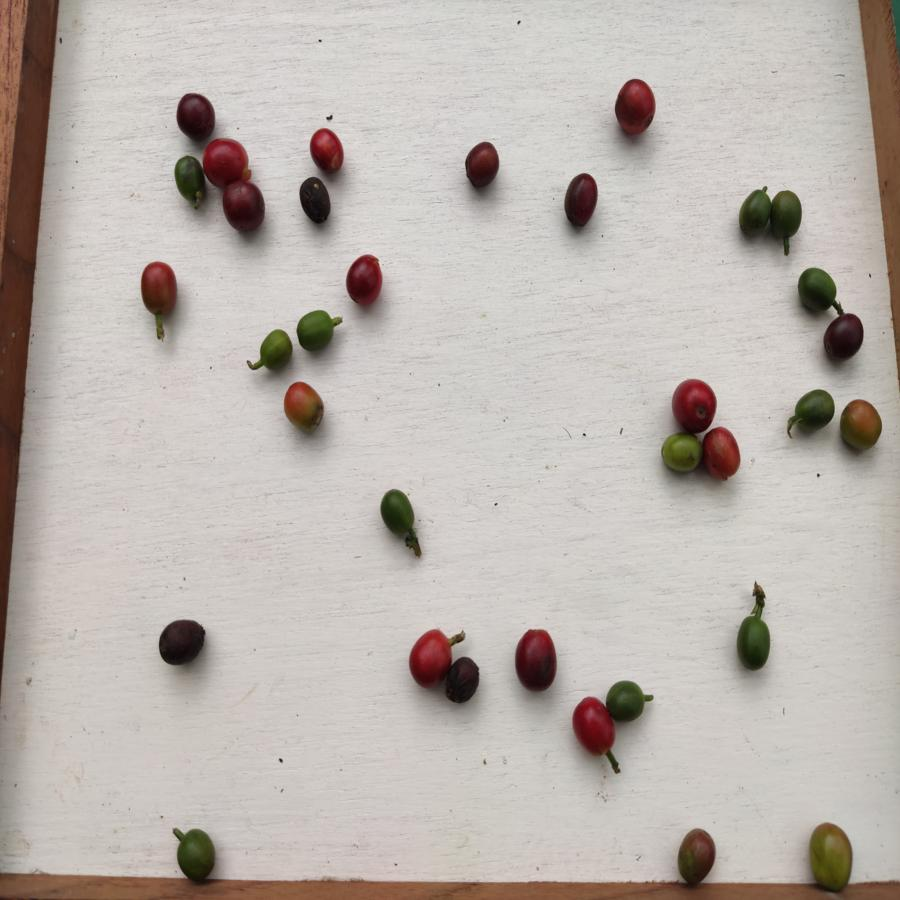Inmaduro: (731, 613, 772, 671), (173, 830, 218, 881), (791, 387, 836, 436), (797, 264, 840, 313), (769, 188, 803, 242), (737, 188, 771, 241), (605, 677, 645, 722), (381, 486, 417, 535), (295, 309, 335, 350), (257, 330, 295, 372), (173, 155, 206, 203)
Maduro: (407, 626, 451, 687), (671, 373, 716, 432), (570, 695, 614, 755), (701, 426, 745, 483), (140, 259, 181, 316), (204, 138, 251, 183), (309, 127, 344, 175)
Pinton: (805, 815, 857, 893), (840, 395, 884, 459), (672, 829, 719, 886), (281, 378, 326, 430), (660, 430, 703, 475)
Sobremaduro: (611, 77, 662, 139), (221, 179, 270, 238), (515, 628, 558, 695), (155, 616, 209, 669), (346, 248, 385, 308), (177, 87, 216, 142), (564, 171, 600, 229), (447, 656, 483, 713), (824, 312, 863, 361), (466, 139, 501, 189), (300, 178, 334, 227)
